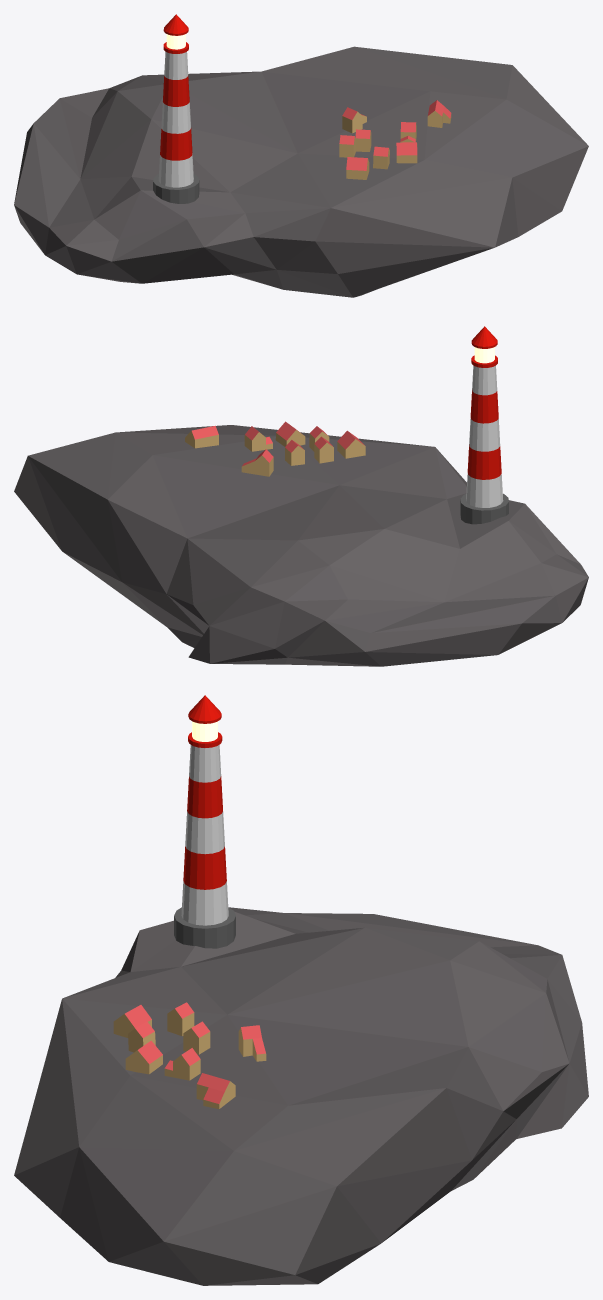
File: lighthouse.glb
The picture shows the model from 3 angles, top to bottom: view 1: azimuth 30°, elevation 25°; view 2: azimuth 150°, elevation 25°; view 3: azimuth 270°, elevation 25°; orthographic projection. The views are drawn at different scales.
Visible parts, largest first — view 1: BaseRock, LightHouse, house, house.004, house.002, house.003; view 2: BaseRock, LightHouse, house.004, house.003, house, house.005, house.002; view 3: BaseRock, LightHouse, house.004, house.002, house.005, house.003.
Part boxes in pixels (<box>): BaseRock: <box>14,46,588,297</box>; LightHouse: <box>153,14,199,203</box>; house: <box>346,157,369,179</box>; house.004: <box>427,100,451,127</box>; house.002: <box>396,142,417,163</box>; house.003: <box>342,107,366,133</box>; BaseRock: <box>14,425,588,666</box>; LightHouse: <box>460,326,508,524</box>; house.004: <box>185,425,218,448</box>; house.003: <box>241,449,273,476</box>; house: <box>337,430,365,458</box>; house.005: <box>244,426,272,451</box>; house.002: <box>275,421,305,446</box>; BaseRock: <box>14,907,588,1285</box>; LightHouse: <box>174,695,235,948</box>; house.004: <box>196,1073,235,1109</box>; house.002: <box>125,1040,162,1074</box>; house.005: <box>164,1048,200,1080</box>; house.003: <box>238,1025,266,1061</box>.
Size of what is drawn, in the model's own units: 8.51 by 5.04 by 6.13.
